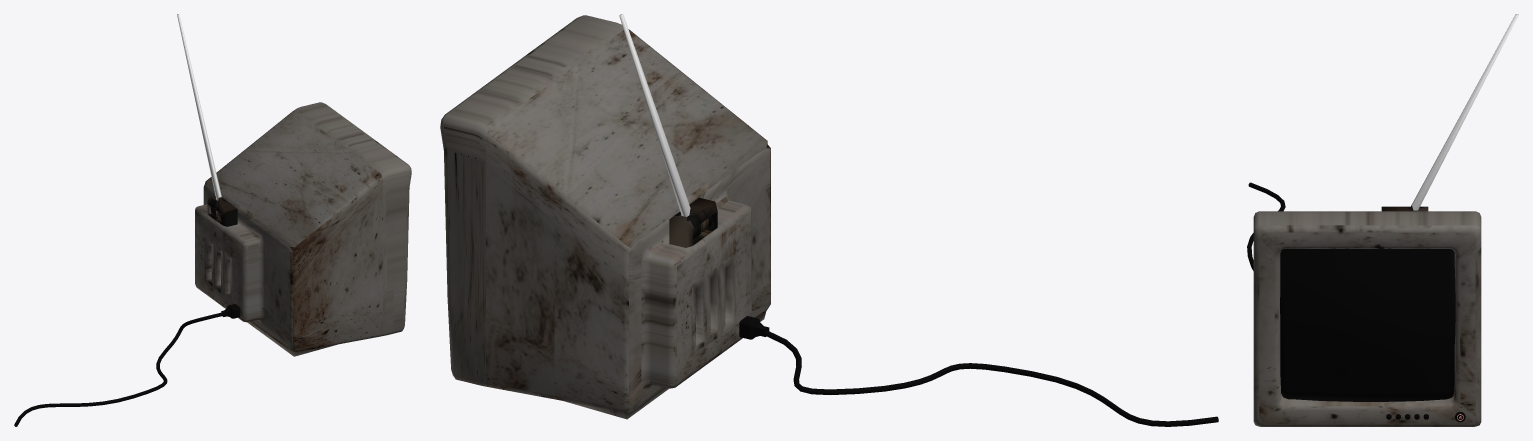
File: crt-monitor.glb
The picture shows the model from 3 angles, left to right: view 1: azimuth 30°, elevation 25°; view 2: azimuth 150°, elevation 25°; view 3: azimuth 270°, elevation 25°; orthographic projection. The views are drawn at different scales.
Parts seen in each view (by area): view 1: Monitor, Wire, Anatena; view 2: Monitor, Wire, Anatena; view 3: Display, Monitor, Anatena, Wire.
Part boxes in pixels (x1=…): Monitor: x1=195, y1=102, x2=411, y2=356; Wire: x1=14, y1=312, x2=223, y2=426; Anatena: x1=177, y1=14, x2=221, y2=200; Monitor: x1=440, y1=15, x2=770, y2=419; Wire: x1=760, y1=330, x2=1218, y2=426; Anatena: x1=619, y1=14, x2=690, y2=216; Display: x1=1280, y1=249, x2=1455, y2=401; Monitor: x1=1253, y1=204, x2=1481, y2=426; Anatena: x1=1412, y1=14, x2=1518, y2=210; Wire: x1=1247, y1=182, x2=1285, y2=270.
Bounding box in the file's own units: 5.13 × 3.29 × 2.39.
5 materials, 1 textured.
